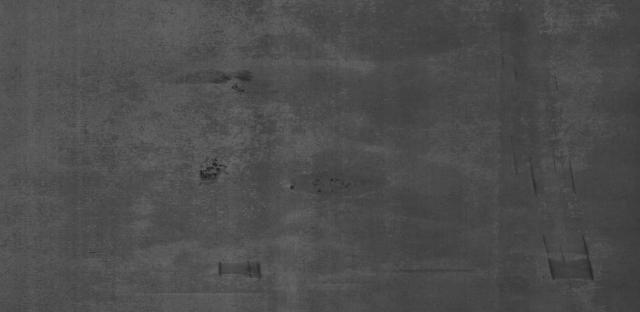rolled_pit: (540, 236, 600, 286), (519, 150, 583, 196), (199, 253, 276, 286)
